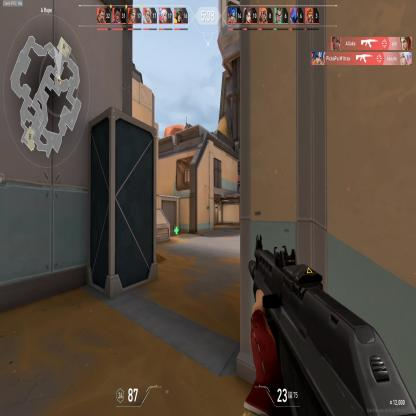enemy: (237, 174, 240, 193)
